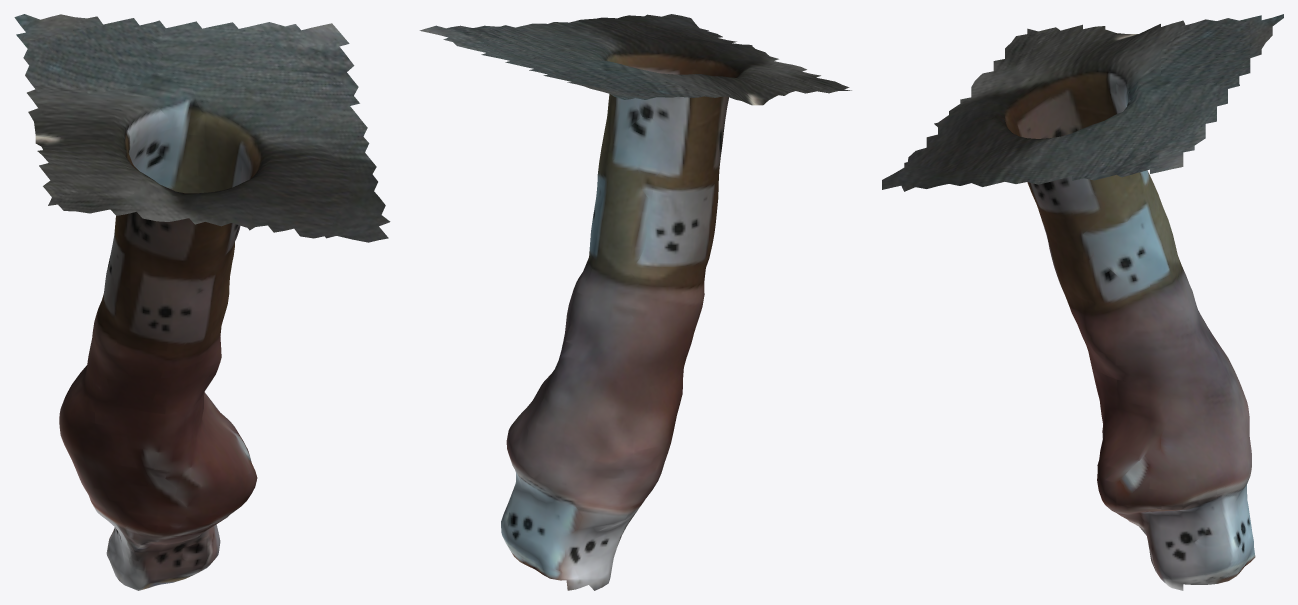
The model's file is rodilla.obj.
3 views of the same model, side by side, from view 1: azimuth 30°, elevation 25°; view 2: azimuth 150°, elevation 25°; view 3: azimuth 270°, elevation 25° (orthographic). The views are drawn at different scales.
Bounding box in the file's own units: 1.02 × 1.48 × 1.02.
Materials: 1 (1 with a texture image).
